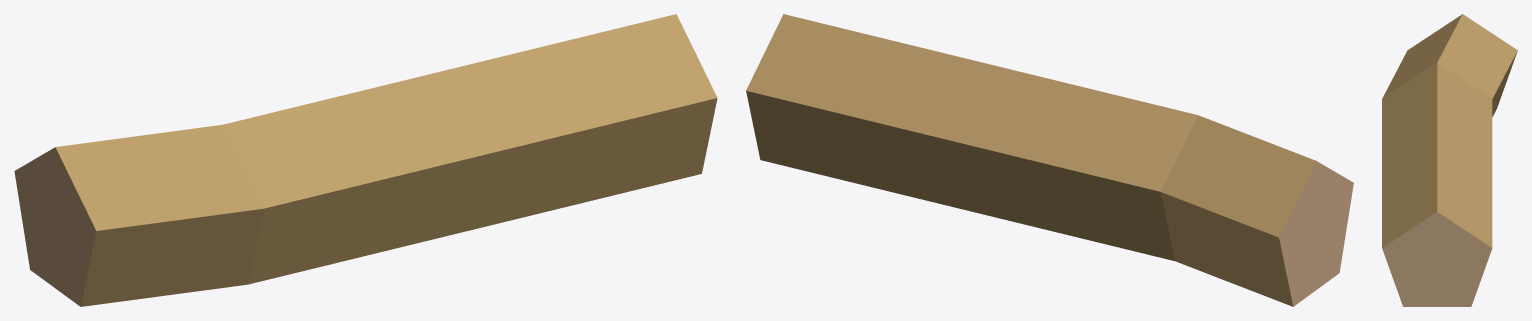
Rendered from Oak_Firewood_01.fbx.
3 views of the same model, side by side, from view 1: azimuth 30°, elevation 25°; view 2: azimuth 150°, elevation 25°; view 3: azimuth 270°, elevation 25° (orthographic). The views are drawn at different scales.
Visible parts, largest first — view 1: Oak_Firewood_01; view 2: Oak_Firewood_01; view 3: Oak_Firewood_01.
Boxes of the visible parts, <box> form: Oak_Firewood_01: <box>14,14,717,306</box>; Oak_Firewood_01: <box>746,14,1353,306</box>; Oak_Firewood_01: <box>1382,14,1517,306</box>.
Bounding box in the file's own units: 56 × 12.56 × 16.25.
